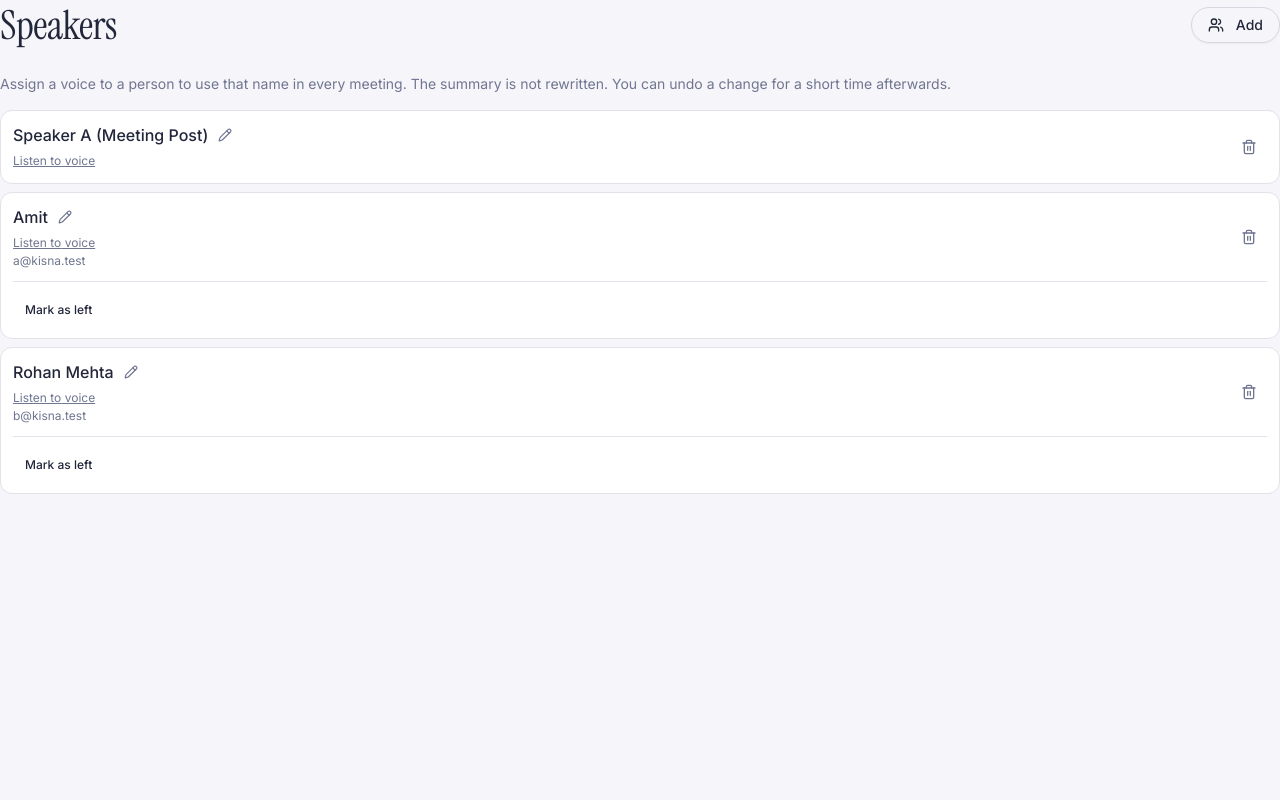
Speakers assign controls › shows a refusal in words, with the picker still open
The image size is (1280, 800).
Expected: the text "Speaker A (Meeting Post)" is shown, [13, 123, 208, 147]
Click the button named "Assign Speaker A (Meeting Post) to a person" at [225, 135], box [214, 124, 236, 146]
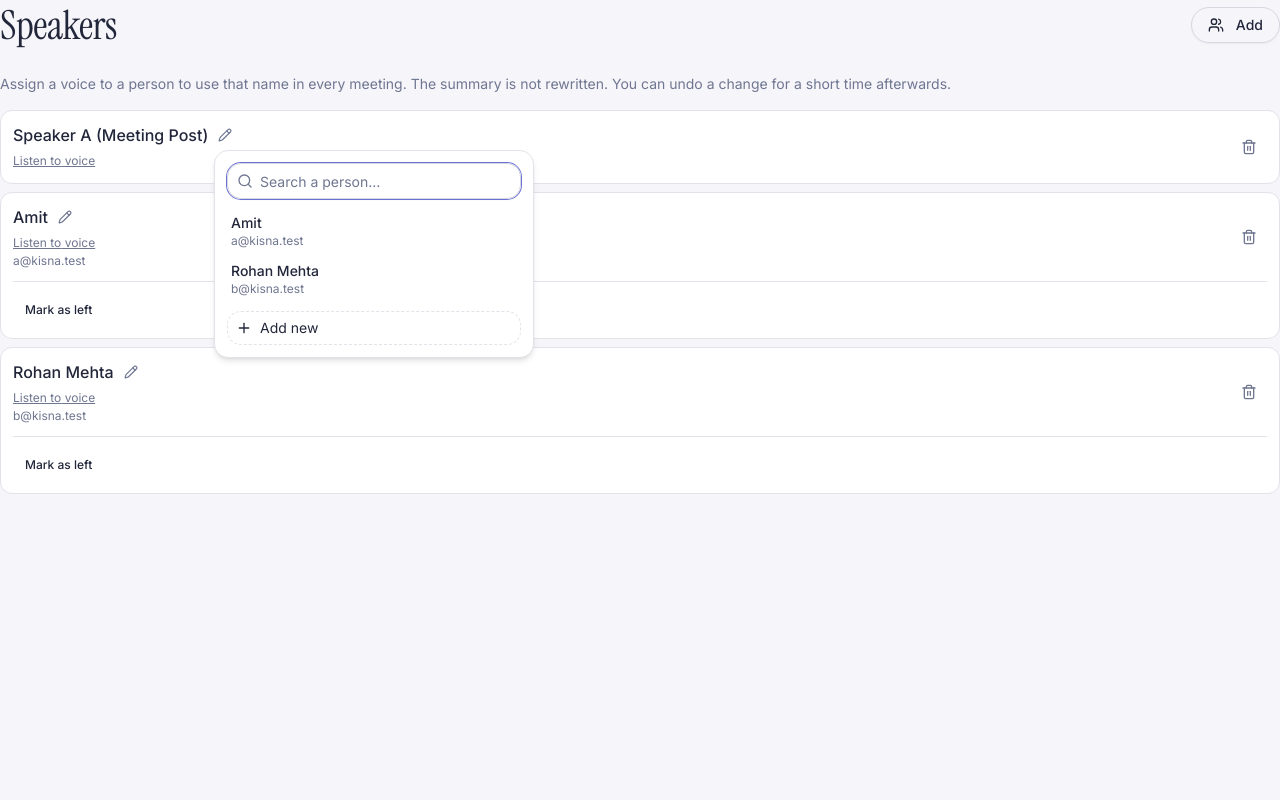
Click the option "Rohan Mehta b@kisna.test" at [275, 270], box [223, 255, 525, 303]
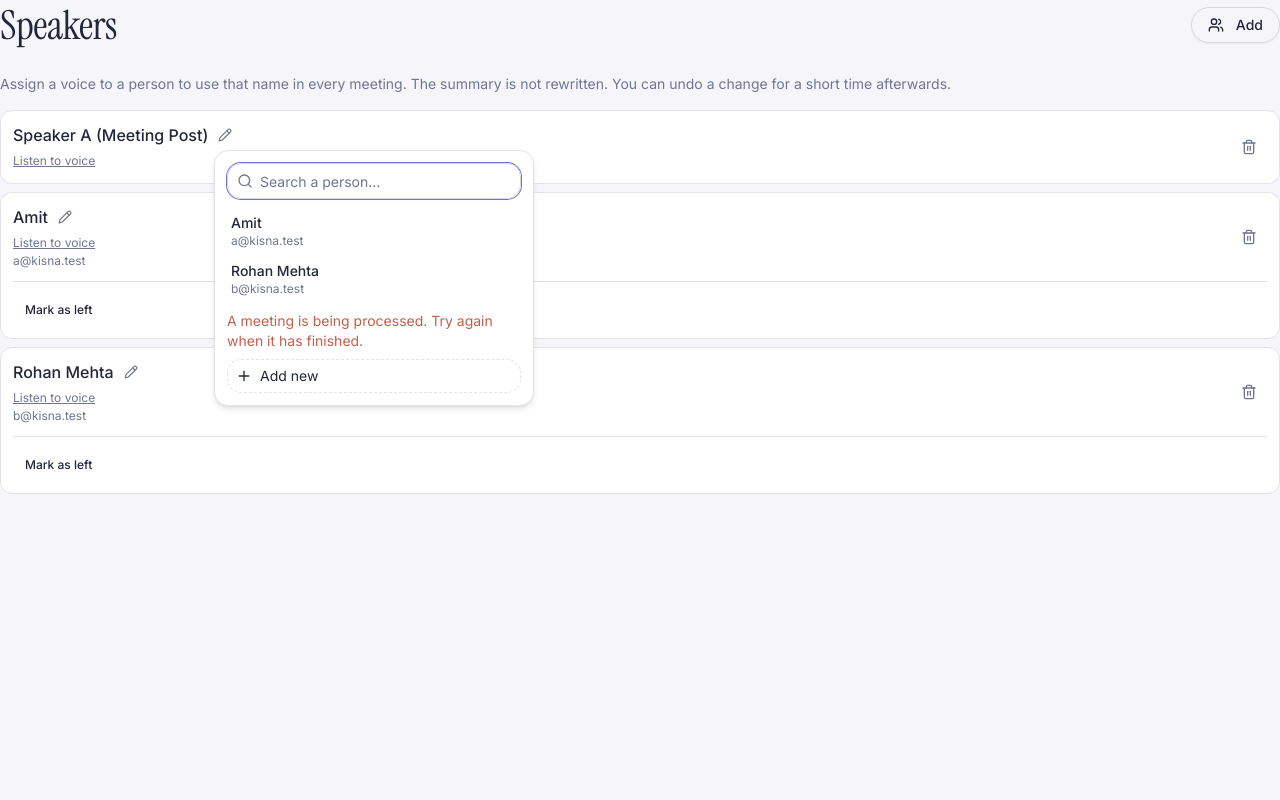
Now the list is shown, box [223, 207, 525, 303]
Now the text "being processed" is shown, box [227, 312, 493, 349]
